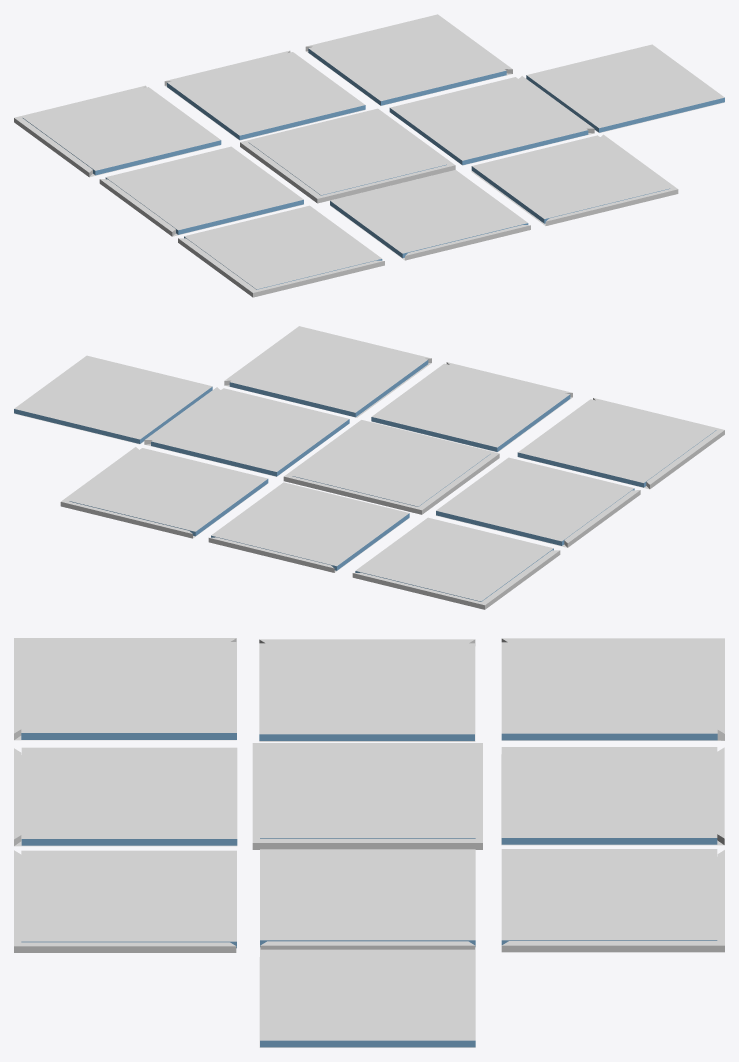
The model's file is SquarePuzzle 1.fbx.
3 renders of one model, top to bottom at view 1: azimuth 30°, elevation 25°; view 2: azimuth 150°, elevation 25°; view 3: azimuth 270°, elevation 25°, orthographic. The views are drawn at different scales.
Parts seen in each view (by area): view 1: PuzzlePrefab.005, PuzzlePrefab.008, PuzzlePrefab.007, PuzzlePrefab.009, PuzzlePrefab.001, PuzzlePrefab.002, PuzzlePrefab.004, PuzzlePrefab.006, PuzzlePrefab.003, PuzzlePrefab, OnePiece, TopLeft (+7 smaller); view 2: PuzzlePrefab.004, PuzzlePrefab.006, PuzzlePrefab.005, PuzzlePrefab.009, PuzzlePrefab.002, PuzzlePrefab.003, PuzzlePrefab.008, PuzzlePrefab.007, PuzzlePrefab.001, PuzzlePrefab, OnePiece, TopRight (+7 smaller); view 3: PuzzlePrefab.001, PuzzlePrefab.004, PuzzlePrefab.009, PuzzlePrefab.007, PuzzlePrefab.002, PuzzlePrefab.003, PuzzlePrefab.005, PuzzlePrefab.006, PuzzlePrefab.008, PuzzlePrefab, OnePiece, BottomRight (+7 smaller).
Part boxes in pixels (box(x1,y1,x2,y2)): PuzzlePrefab.005: box(389, 77, 588, 165); PuzzlePrefab.008: box(308, 17, 506, 105); PuzzlePrefab.007: box(167, 52, 365, 139); PuzzlePrefab.009: box(526, 44, 724, 132); PuzzlePrefab.001: box(23, 87, 221, 175); PuzzlePrefab.002: box(105, 146, 303, 234); PuzzlePrefab.004: box(330, 170, 528, 258); PuzzlePrefab.006: box(471, 135, 670, 223); PuzzlePrefab.003: box(184, 205, 382, 289); PuzzlePrefab: box(248, 111, 446, 195); OnePiece: box(240, 108, 455, 203); TopLeft: box(178, 238, 384, 297); PuzzlePrefab.004: box(371, 363, 570, 451); PuzzlePrefab.006: box(229, 329, 428, 417); PuzzlePrefab.005: box(151, 388, 349, 476); PuzzlePrefab.009: box(14, 355, 212, 443); PuzzlePrefab.002: box(436, 457, 634, 545); PuzzlePrefab.003: box(517, 399, 716, 487); PuzzlePrefab.008: box(69, 448, 268, 536); PuzzlePrefab.007: box(211, 482, 409, 570); PuzzlePrefab.001: box(355, 517, 553, 601); PuzzlePrefab: box(292, 422, 490, 506); OnePiece: box(283, 420, 499, 514); TopRight: box(352, 550, 560, 609); PuzzlePrefab.001: box(501, 642, 717, 740); PuzzlePrefab.004: box(21, 747, 237, 845); PuzzlePrefab.009: box(260, 949, 475, 1047); PuzzlePrefab.007: box(501, 747, 717, 844); PuzzlePrefab.002: box(259, 643, 474, 740); PuzzlePrefab.003: box(21, 642, 236, 739); PuzzlePrefab.005: box(260, 849, 475, 946); PuzzlePrefab.006: box(21, 850, 236, 948); PuzzlePrefab.008: box(501, 849, 717, 944); PuzzlePrefab: box(260, 747, 475, 838); OnePiece: box(252, 743, 482, 849); BottomRight: box(501, 850, 724, 952).
Bounding box in the file's own units: 463 × 4.62 × 346.
